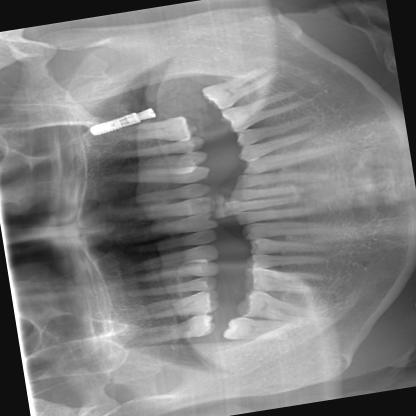ITI: (86, 108, 141, 138)
